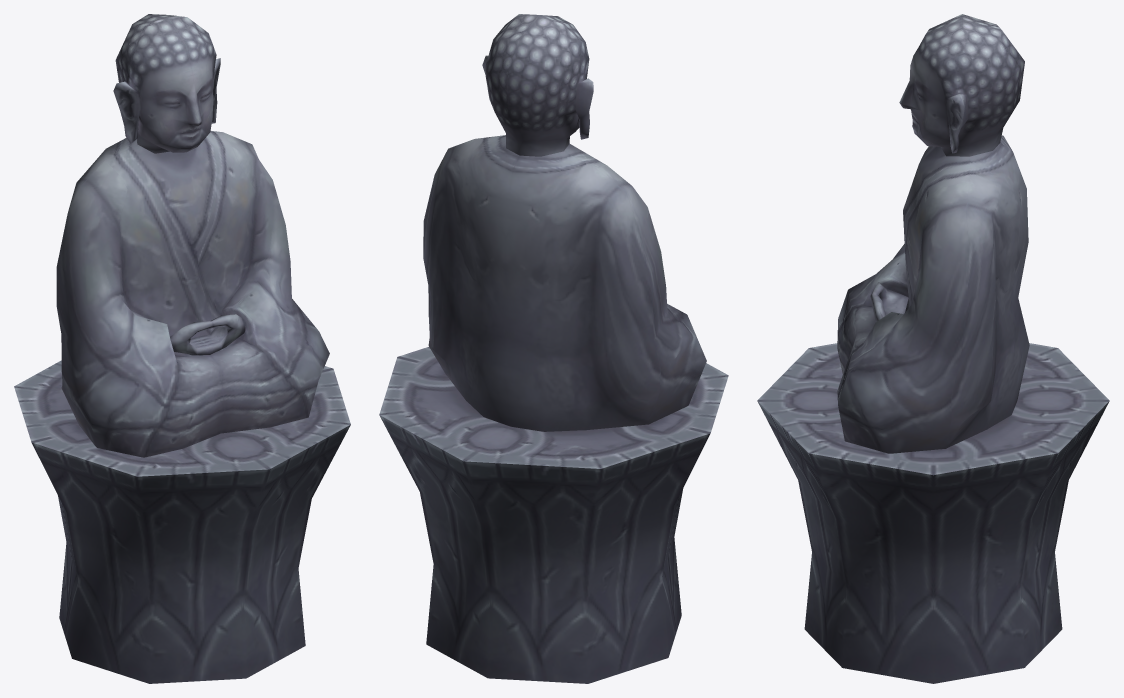
Rendered from Stage_DiXiaCheng_Fo.FBX.
The picture shows the model from 3 angles, left to right: view 1: azimuth 30°, elevation 25°; view 2: azimuth 150°, elevation 25°; view 3: azimuth 270°, elevation 25°; orthographic projection. The views are drawn at different scales.
Visible parts, largest first — view 1: Stage_DiXiaCheng_Fo; view 2: Stage_DiXiaCheng_Fo; view 3: Stage_DiXiaCheng_Fo.
Part boxes in pixels (x1,y1,x2,y2): Stage_DiXiaCheng_Fo: (14, 14, 350, 683); Stage_DiXiaCheng_Fo: (379, 14, 728, 683); Stage_DiXiaCheng_Fo: (757, 14, 1109, 683).
Bounding box in the file's own units: 119 × 227 × 119.
